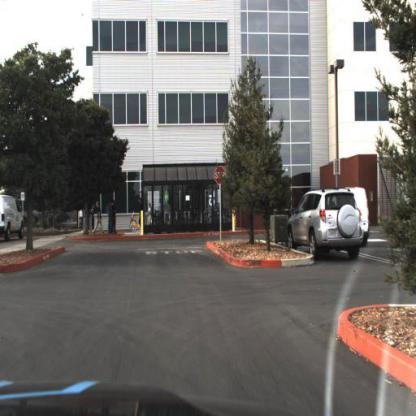car: (288, 184, 366, 258), (287, 189, 366, 262)
pedestrian: (93, 200, 104, 233), (107, 197, 116, 236), (137, 195, 145, 231), (107, 198, 114, 232), (113, 199, 119, 234), (113, 199, 118, 234)
truck: (1, 194, 23, 242)
